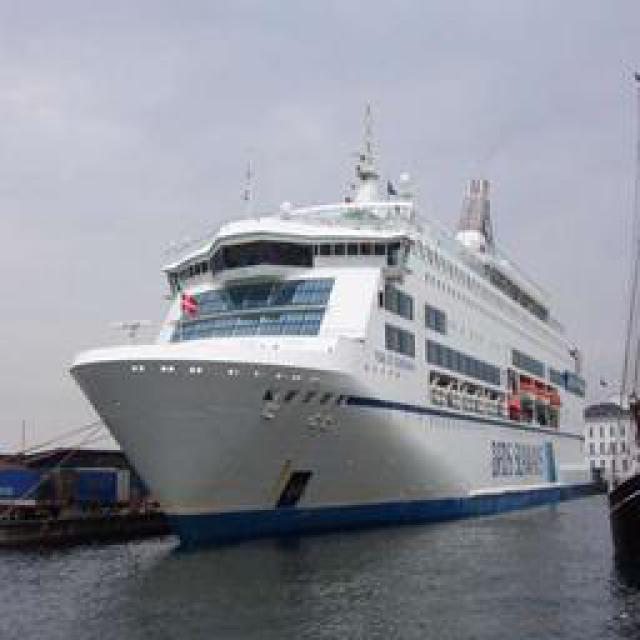Ship: (64, 105, 604, 540)
